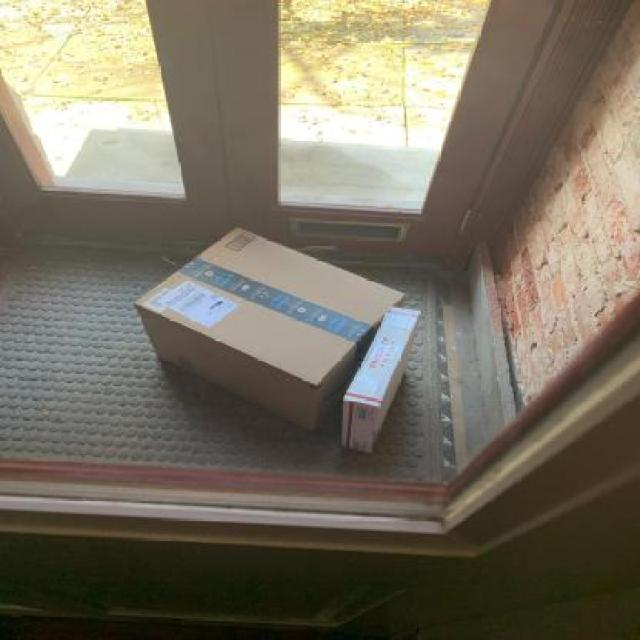cardboxes: (133, 226, 404, 437), (339, 307, 424, 455)
